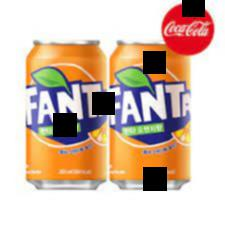fanta_orange: (110, 38, 196, 197), (25, 36, 108, 193)
